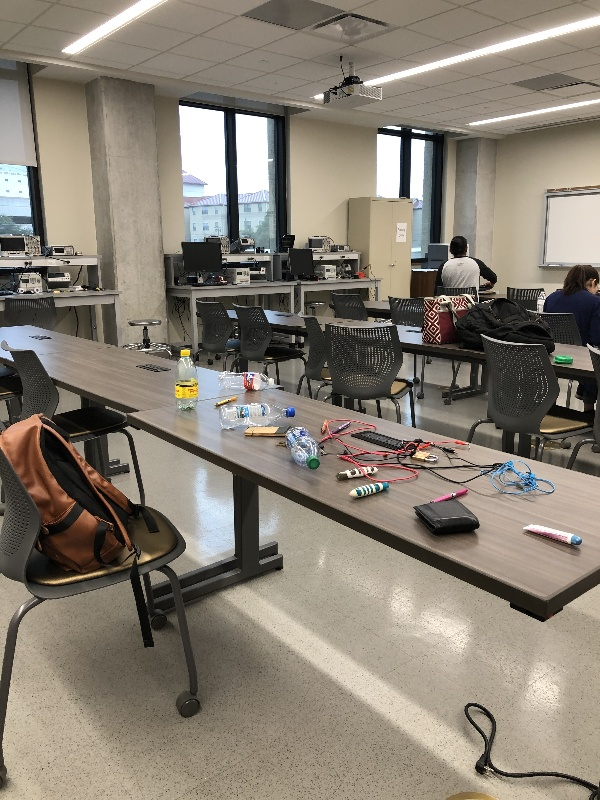bottle: (170, 347, 209, 412), (217, 401, 300, 430), (286, 422, 324, 473), (215, 369, 279, 392)
